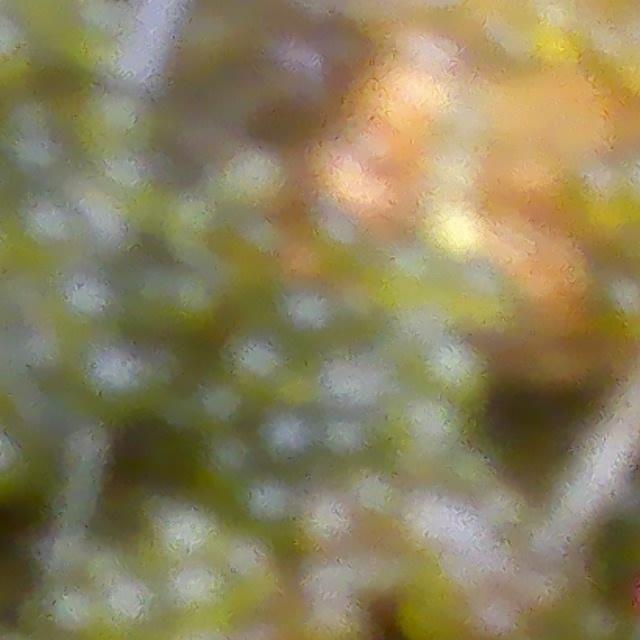SeaGrape: (389, 392, 466, 466)
